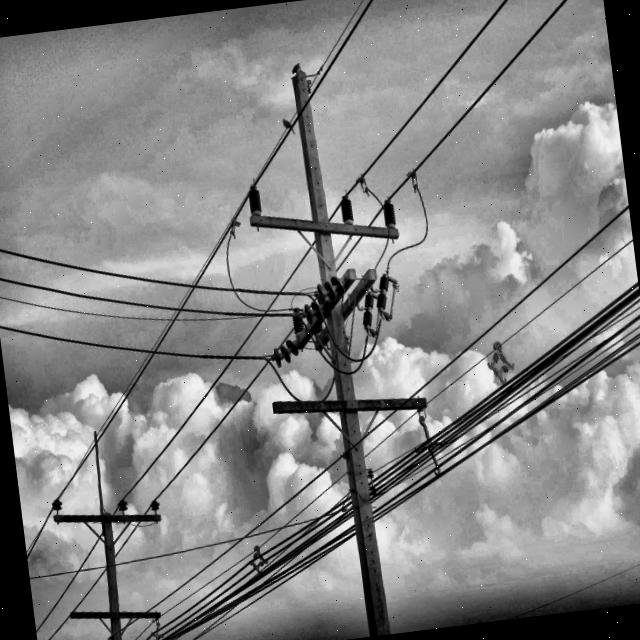poles: (251, 20, 464, 640), (39, 414, 193, 640)
